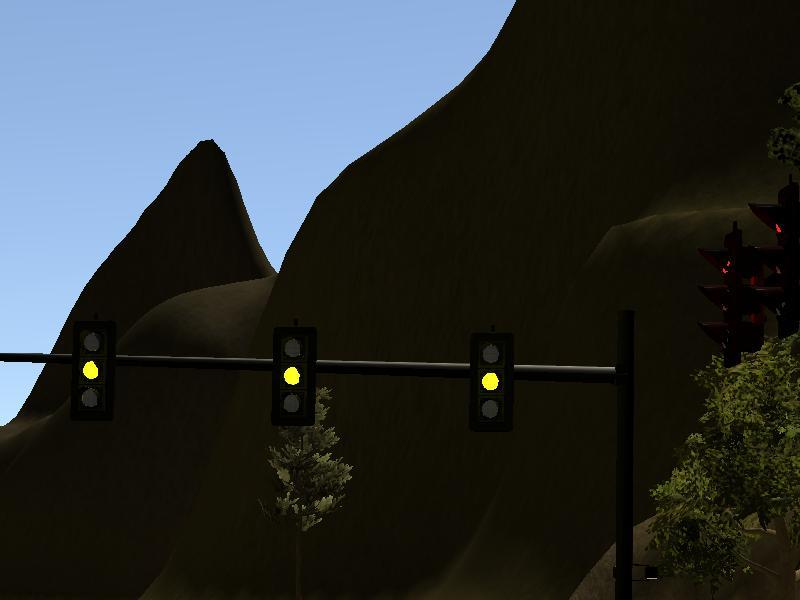Yellow: (471, 333, 515, 433), (272, 328, 316, 426), (71, 320, 114, 418)
